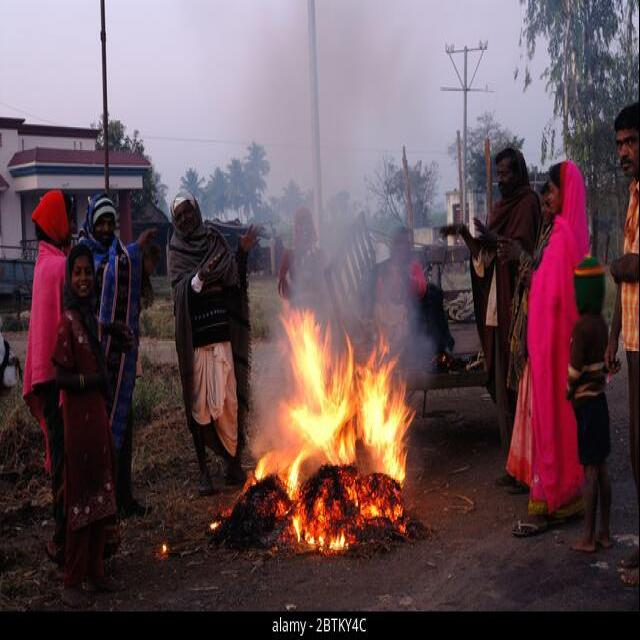fire: (283, 308, 415, 484), (252, 446, 305, 495), (291, 511, 347, 549)
